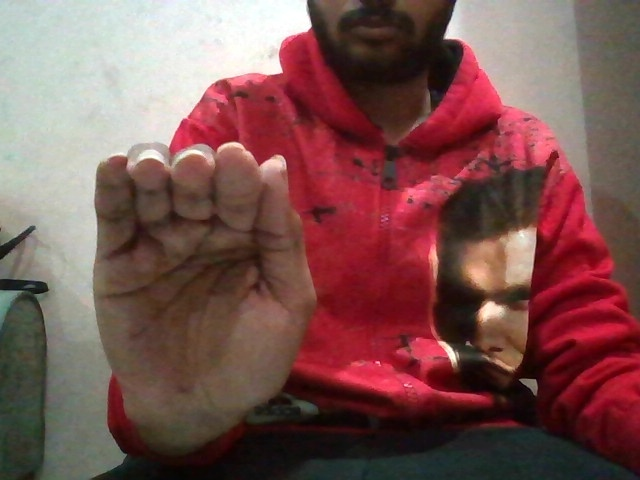C: (80, 131, 322, 434)
